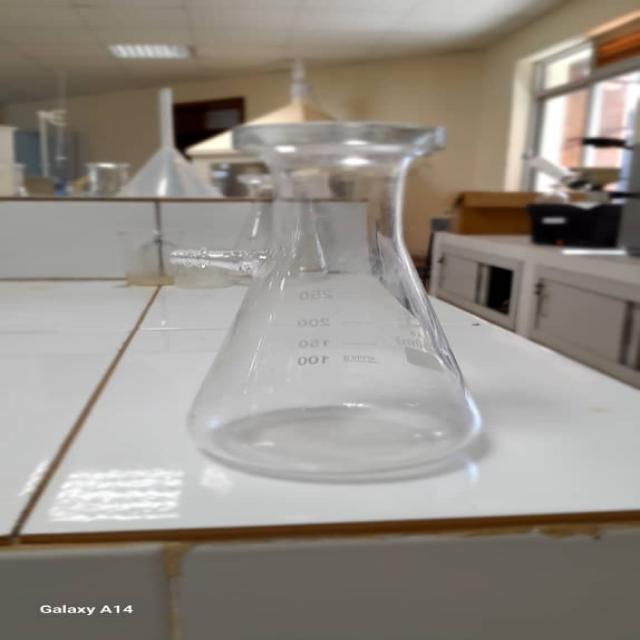Filtration Flask: (180, 116, 535, 479)
